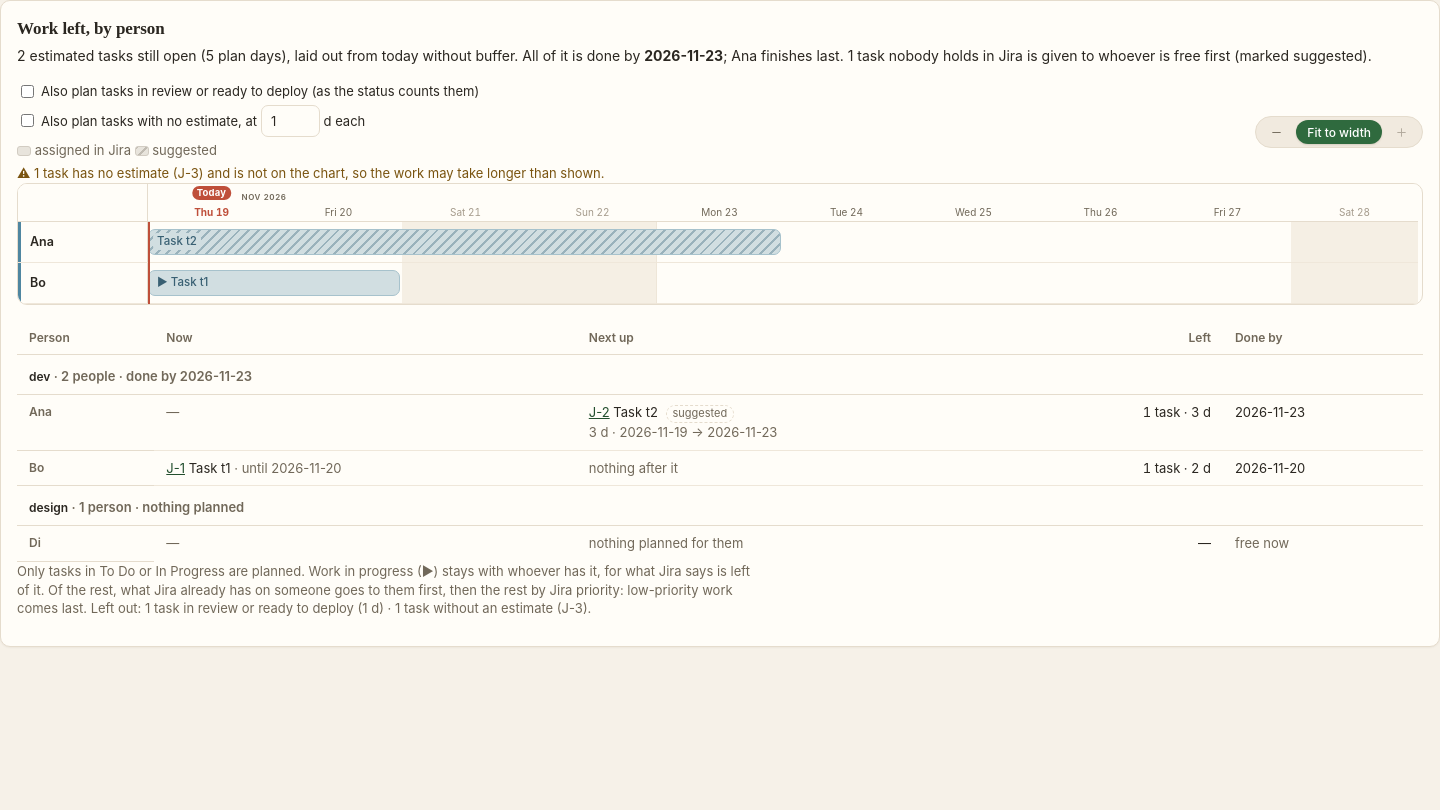
Scenario: RemainingWorkPanel › can plan the tasks with no estimate at the days typed in
Click the checkbox labelled "Also plan tasks with no estimate, at" at (28, 121), box left=21, top=114, right=34, bottom=127
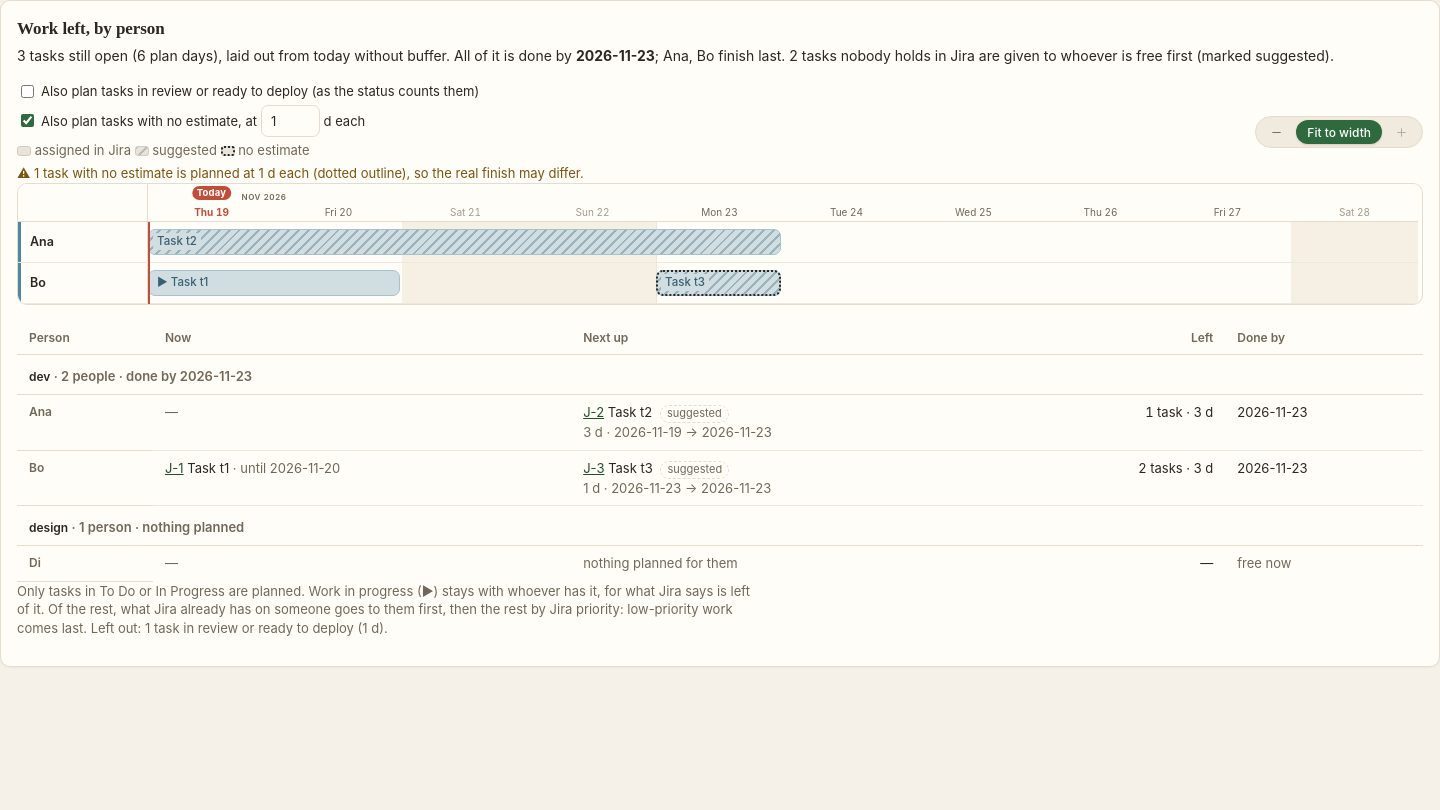
Now the text "1 task with no estimate is planned at 1 d each (dotted outline), so the real finish may differ." is shown, box left=34, top=165, right=584, bottom=181
Replace the text in the number field named "Days for each task with no estimate" with "2.5" at (290, 121), box left=261, top=105, right=320, bottom=137
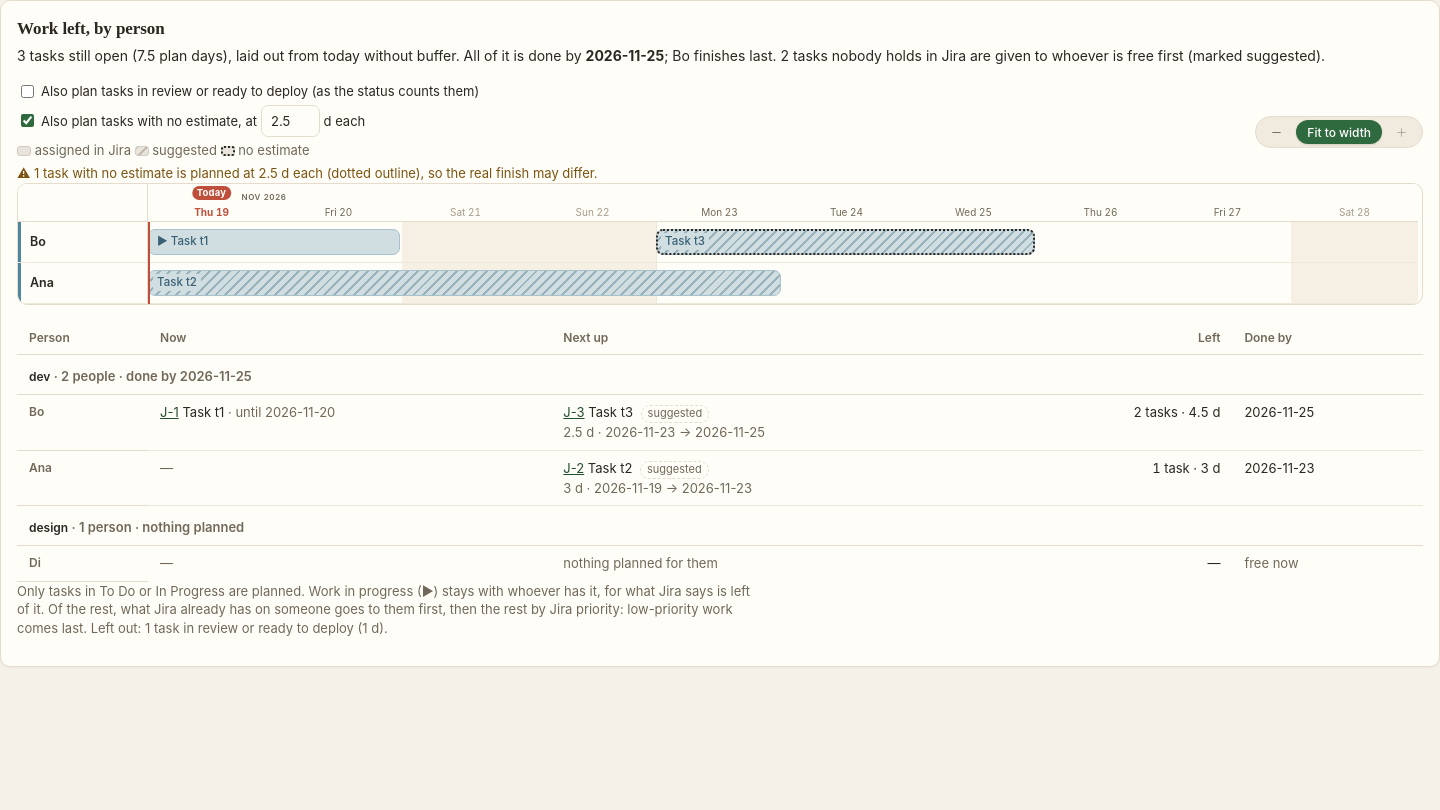
Now the element "Work left, by person" does not show "without an estimate"
Now the element titled "J-3 Task t3 (Alpha) Bo · 2026-11-23 → 2026-11-25 · 2.5 d (no" is shown, box left=656, top=229, right=1035, bottom=255
